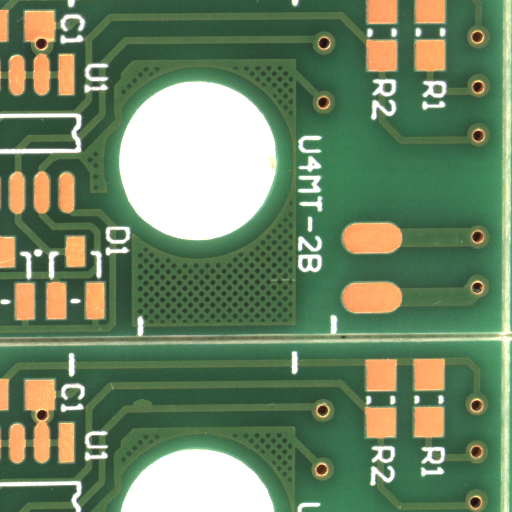Spur: (142, 402, 160, 410)
